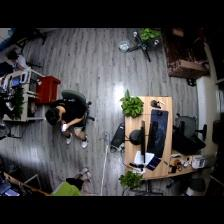normal: (45, 98, 87, 148), (50, 166, 91, 195), (7, 50, 28, 76)
